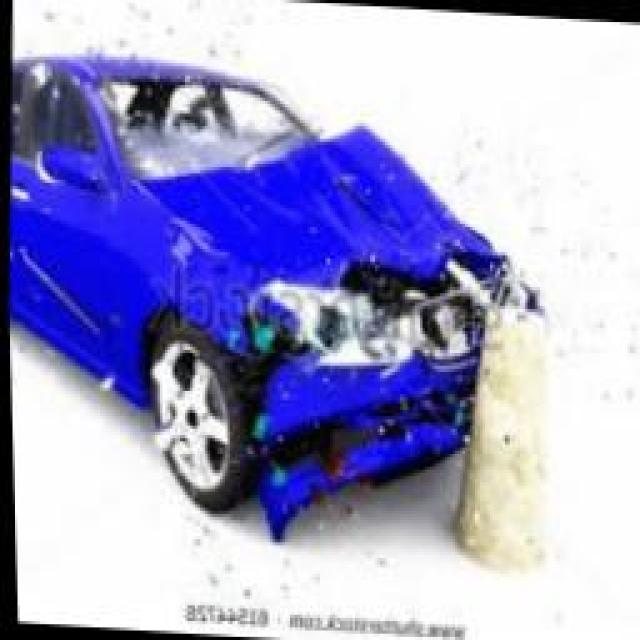Bonnet: (128, 120, 513, 316)
Bumper: (215, 345, 485, 528)
Windshield: (96, 74, 314, 177)
